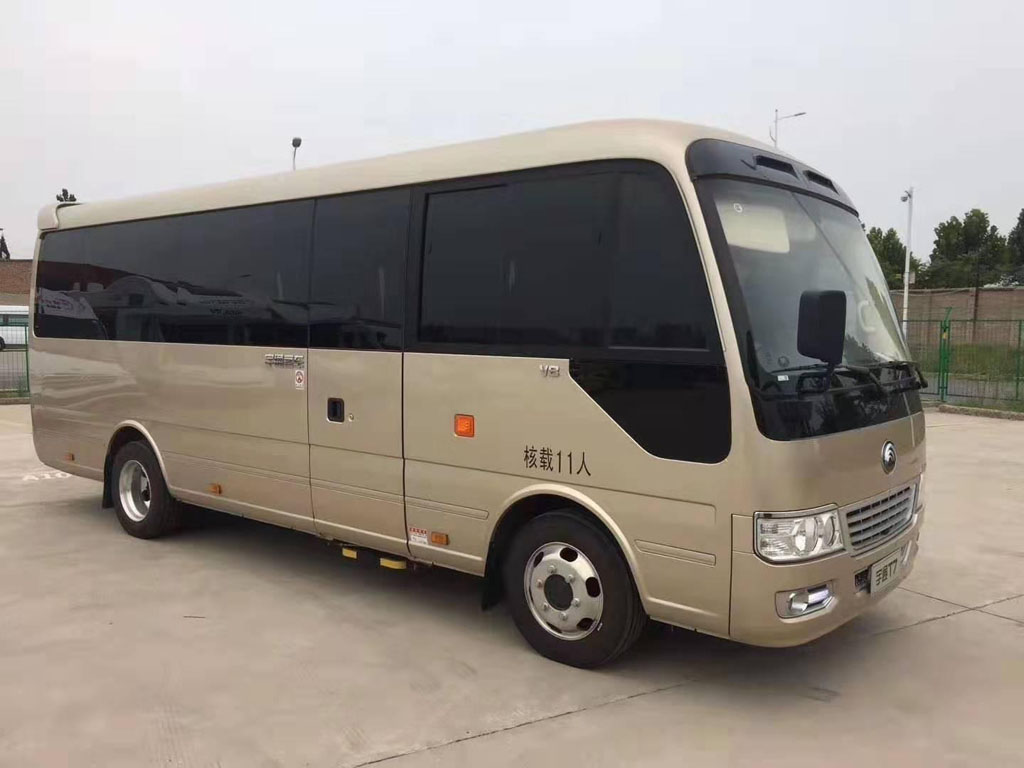midcar: (18, 133, 934, 676)
